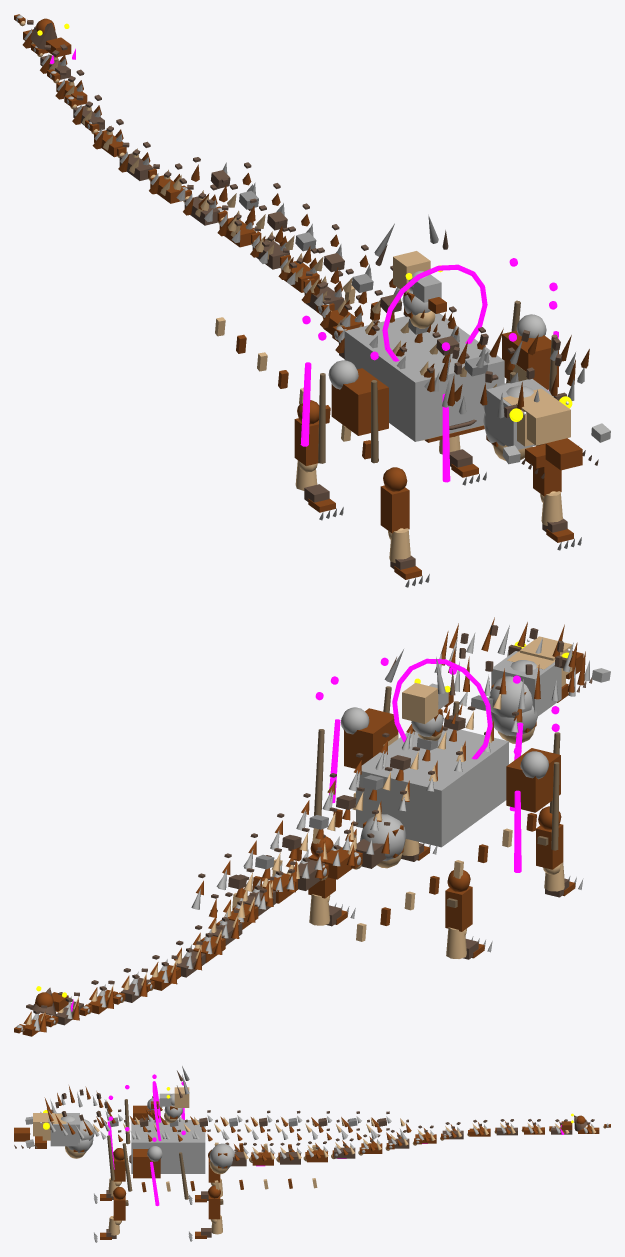
Rendered from ChimeraA.glb.
3 views of the same model, one above another, from view 1: azimuth 30°, elevation 25°; view 2: azimuth 150°, elevation 25°; view 3: azimuth 270°, elevation 25° (orthographic). The views are drawn at different scales.
Visible parts, largest first — view 1: ChimeraBody, ChimeraLionHead, ChimeraGoatHead; view 2: ChimeraBody, ChimeraLionHead, ChimeraGoatHead; view 3: ChimeraBody, ChimeraLionHead, ChimeraGoatHead.
Part boxes in pixels (x1,y1,x2,y2): ChimeraBody: [14, 14, 581, 587]; ChimeraLionHead: [427, 328, 610, 478]; ChimeraGoatHead: [374, 215, 458, 335]; ChimeraBody: [14, 657, 583, 1036]; ChimeraLionHead: [434, 617, 610, 716]; ChimeraGoatHead: [384, 649, 462, 723]; ChimeraBody: [65, 1074, 610, 1242]; ChimeraLionHead: [14, 1086, 115, 1148]; ChimeraGoatHead: [142, 1066, 189, 1120].
Bounding box in the file's own units: 2.19 × 2.52 × 9.03.
